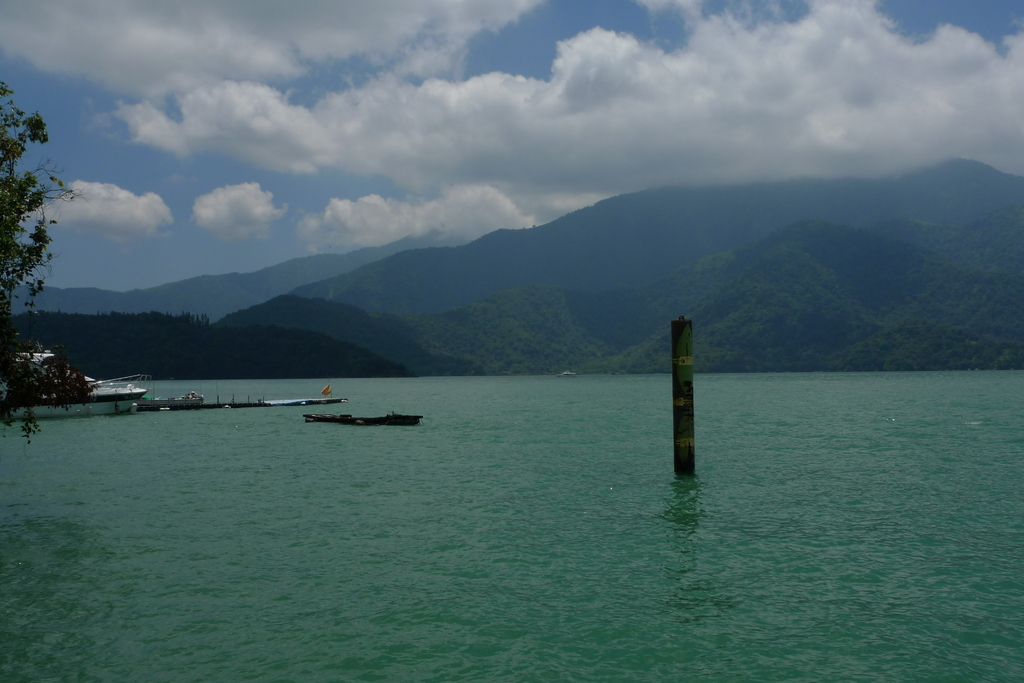Tree: (0, 67, 95, 451), (94, 305, 226, 343)
